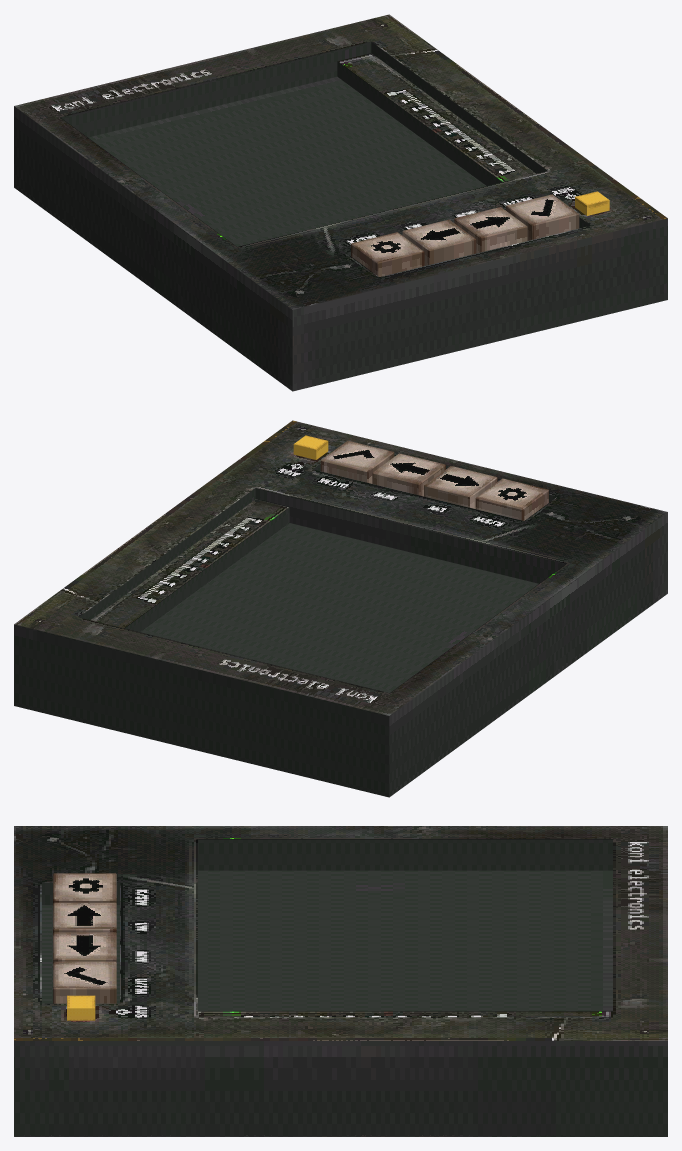
The model's file is mp_jammer2.glb.
3 views of the same model, one above another, from view 1: azimuth 30°, elevation 25°; view 2: azimuth 150°, elevation 25°; view 3: azimuth 270°, elevation 25° (orthographic). The views are drawn at different scales.
Visible parts, largest first — view 1: jammer parent, jammer button_misc, jammer button_left, jammer button_confirm, jammer button_right; view 2: jammer parent, jammer button_misc, jammer button_confirm, jammer button_right, jammer button_left; view 3: jammer parent, jammer button_confirm, jammer button_left, jammer button_right, jammer button_misc.
Boxes of the visible parts, x1,y1,x2,y2 form: jammer parent: (14,14,667,391); jammer button_misc: (351,232,424,276); jammer button_left: (402,219,476,265); jammer button_confirm: (506,194,579,240); jammer button_right: (454,207,527,253); jammer parent: (14,420,667,797); jammer button_misc: (475,478,548,520); jammer button_confirm: (320,441,394,483); jammer button_right: (372,453,445,496); jammer button_left: (424,466,497,508); jammer parent: (14,826,667,1136); jammer button_confirm: (53,961,116,1003); jammer button_left: (53,902,116,932); jammer button_right: (53,932,116,962); jammer button_misc: (53,873,116,903).
Size of the model in its own units: 1.45 by 0.3405 by 1.87.
Materials: 1 (1 with a texture image).
